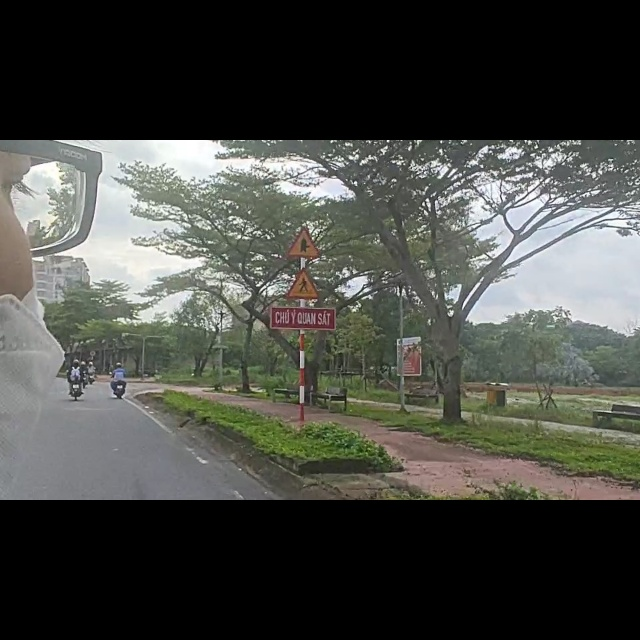bien_nguy_hiem: (285, 147, 327, 212), (281, 225, 326, 284)
